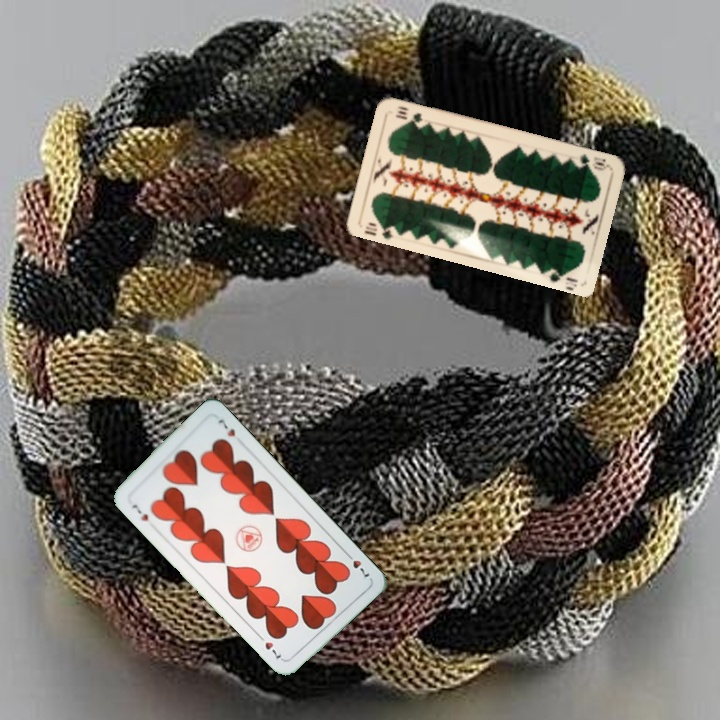G10: (360, 219, 399, 241), (576, 150, 612, 173)
H7: (341, 548, 372, 580), (128, 500, 151, 523)
